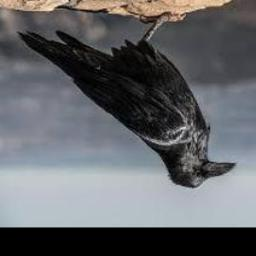Crow: (16, 12, 235, 189)
